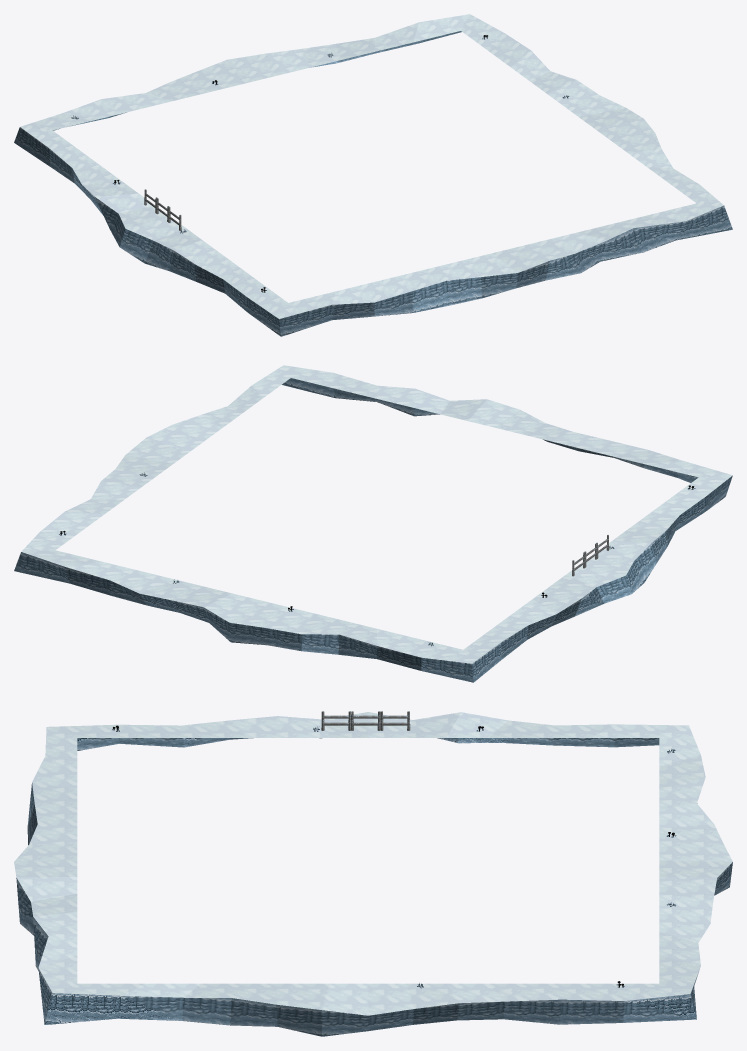
The model's file is entorno_18.fbx.
3 renders of one model, top to bottom at view 1: azimuth 30°, elevation 25°; view 2: azimuth 150°, elevation 25°; view 3: azimuth 270°, elevation 25°, orthographic. The views are drawn at different scales.
Parts seen in each view (by area): view 1: neve_entorno_18; view 2: neve_entorno_18; view 3: neve_entorno_18.
Part boxes in pixels (x1,y1,x2,y2): neve_entorno_18: (14, 14, 732, 336); neve_entorno_18: (14, 365, 732, 682); neve_entorno_18: (14, 711, 732, 1036).
Size of the model in its own units: 2260 by 169 by 2249.
Materials: 7 (5 with a texture image).
